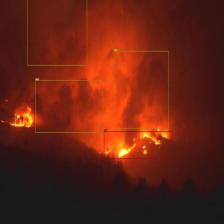fire: (104, 131, 173, 159), (5, 101, 34, 128)
smoke: (113, 51, 169, 129), (27, 0, 87, 65), (35, 80, 103, 132)
